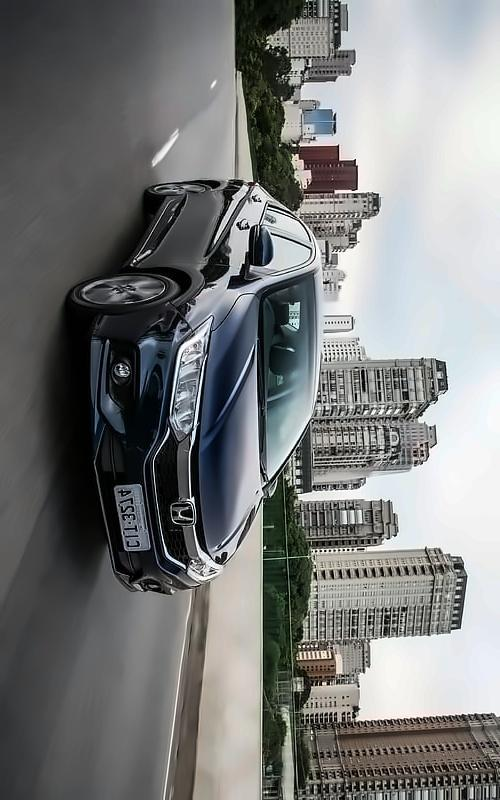Car hood: (190, 288, 278, 573)
Driver-s door - -F-R-: (103, 221, 321, 295)
Fender - -F-R-: (87, 262, 270, 326)
Front bumper: (76, 309, 217, 600)
Headlight - -L-: (184, 555, 224, 585)
Headlight - -R-: (161, 311, 215, 447)
Passenger-s door - -R-R-: (135, 186, 332, 252)
Side bumper - -R-: (113, 181, 198, 282)
Side mirror - -R-: (228, 219, 274, 281)
